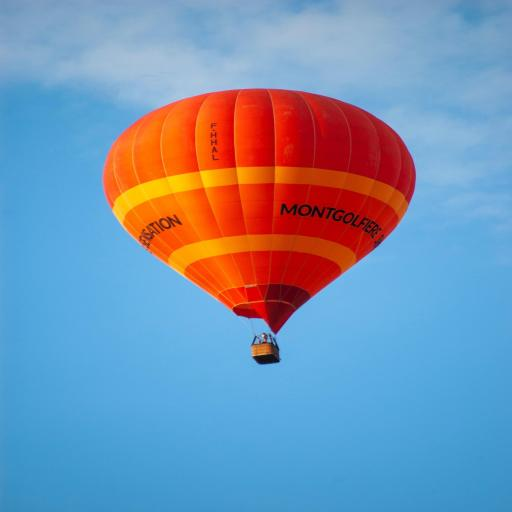hot air ballon: (99, 86, 417, 367)
